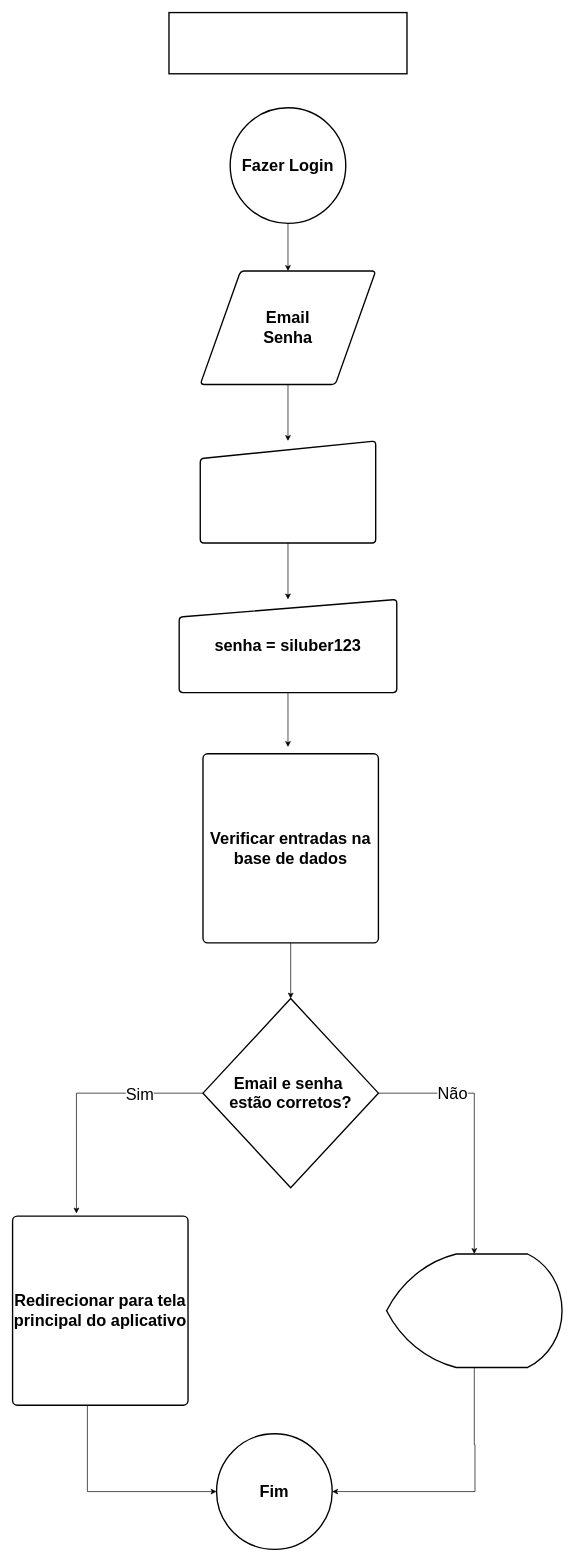
This 574x1561 diagram has some shape labels left out. Here are the shapes that lost their labels. From the top down, the centre of each, then its label:
At pixel 287 43: "Estrutura condicional".
At pixel 287 491: "Email = Sil".
At pixel 474 1310: "Dados inválidos! Tente novamente!".
